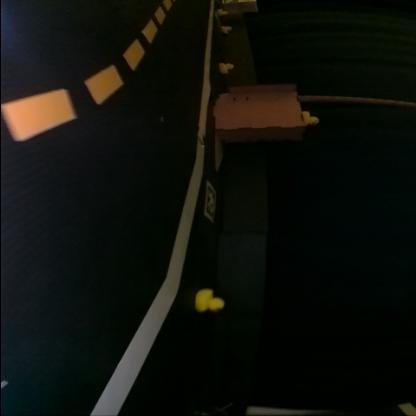Duckie: (196, 290, 224, 312), (305, 110, 319, 124), (219, 62, 234, 73), (221, 27, 232, 33), (217, 8, 225, 14)
QR code: (204, 182, 216, 219)
